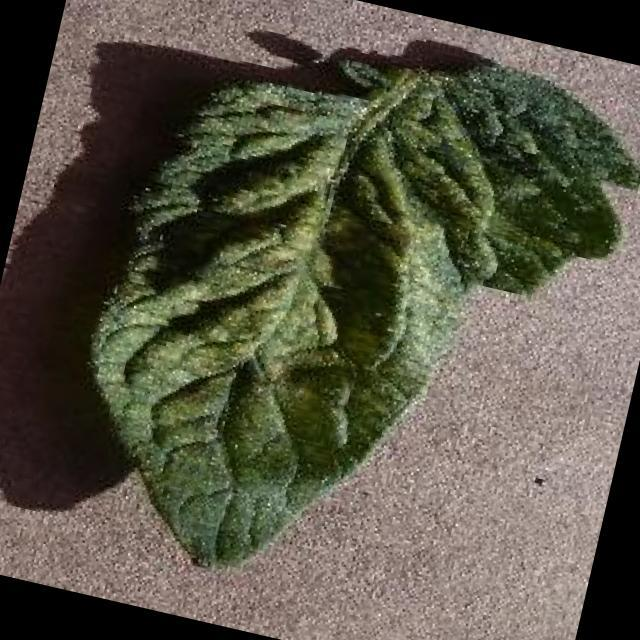Tomato spider mites leaf: (46, 0, 640, 640)
